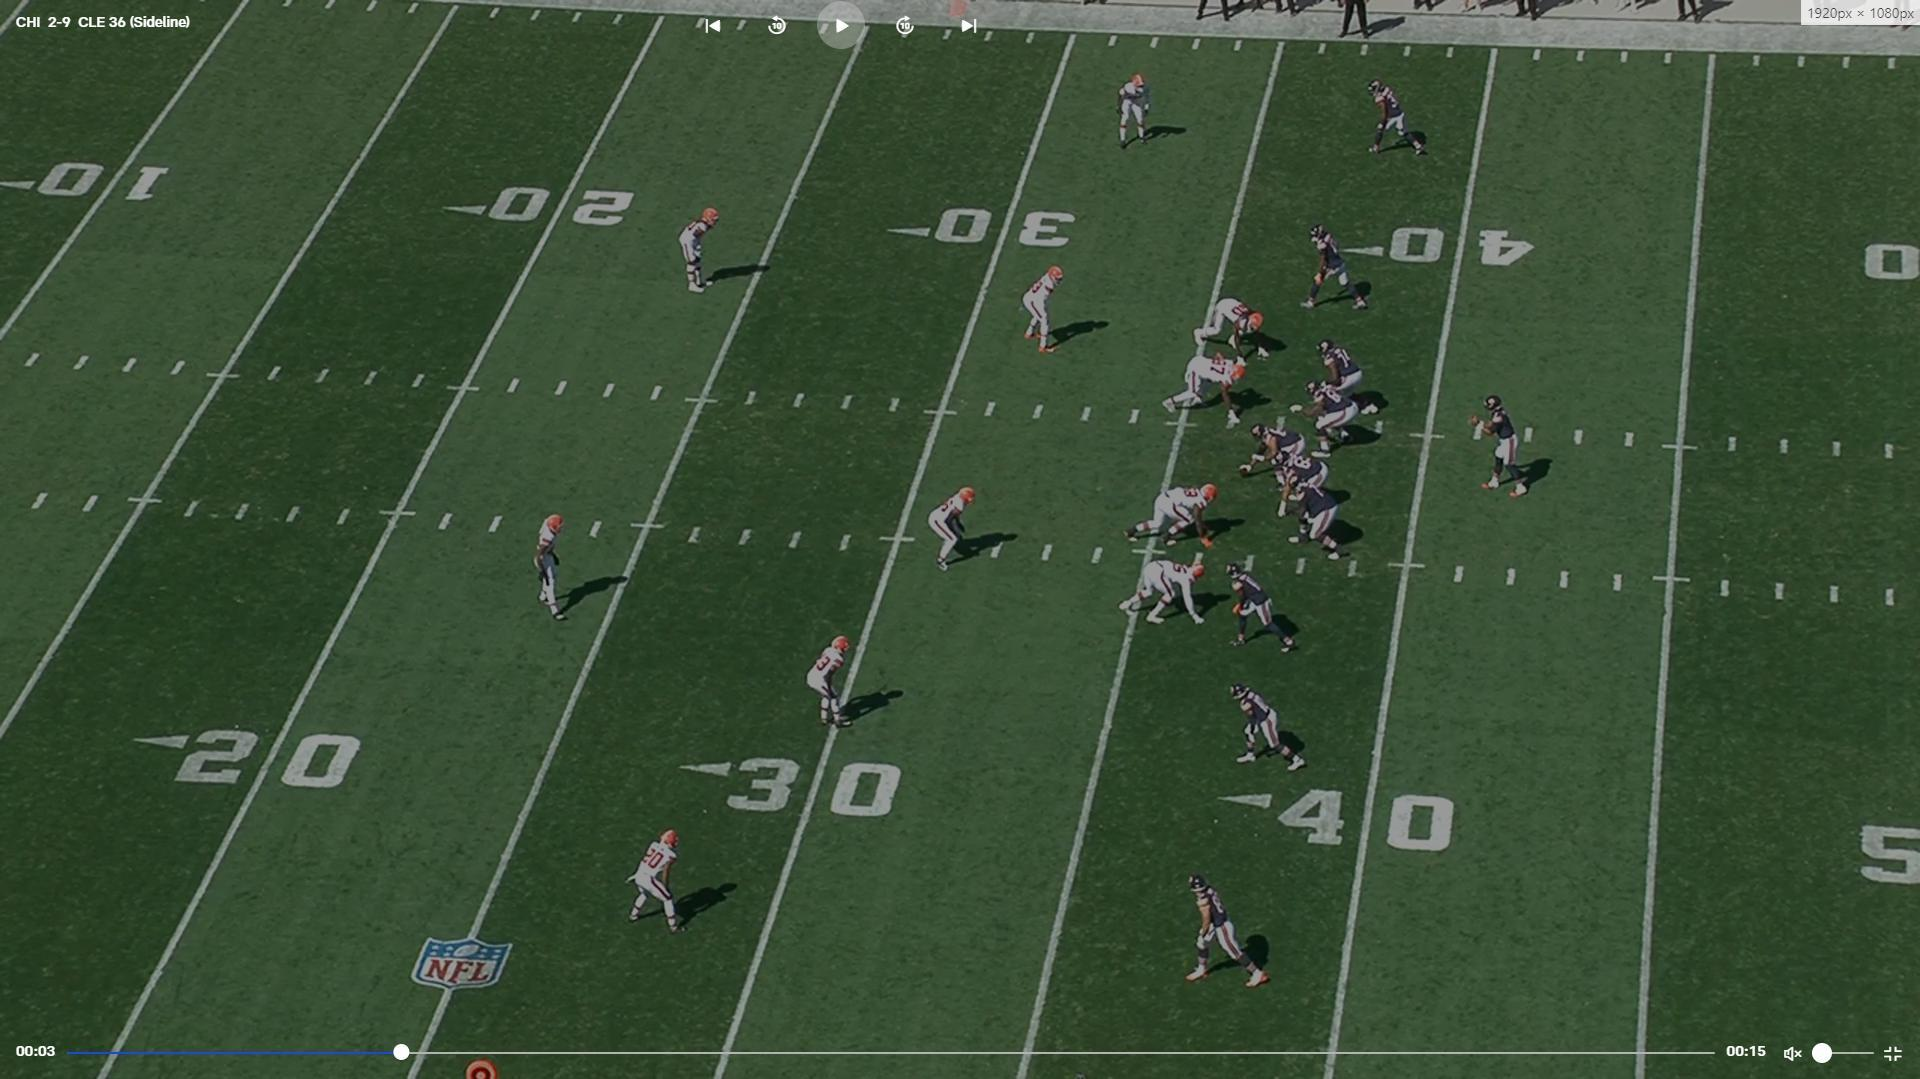defense: (1128, 483, 1224, 555), (1118, 556, 1211, 628), (1156, 356, 1247, 429), (628, 824, 686, 935), (1188, 294, 1273, 360), (810, 634, 859, 736), (929, 484, 981, 575), (534, 510, 572, 622), (1024, 263, 1068, 357), (682, 204, 726, 297), (1115, 72, 1160, 158)
oline: (1285, 475, 1349, 567), (1320, 335, 1387, 419), (1306, 376, 1363, 456), (1241, 419, 1309, 482), (1272, 447, 1331, 519)
qb: (1471, 395, 1526, 503)
ref: (1338, 0, 1380, 41)
skill: (1179, 871, 1277, 995), (1228, 679, 1310, 774), (1225, 559, 1305, 656), (1302, 220, 1374, 312), (1363, 75, 1432, 160)
